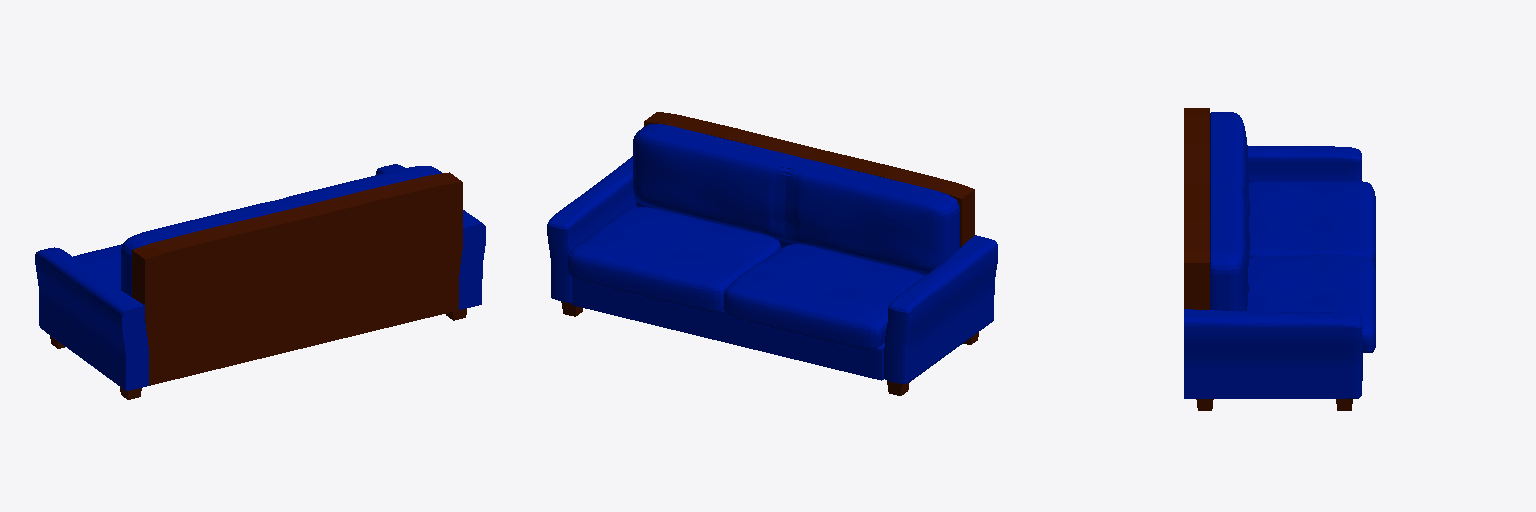
File: Sofa.obj
3 renders of one model, left to right at view 1: azimuth 30°, elevation 25°; view 2: azimuth 150°, elevation 25°; view 3: azimuth 270°, elevation 25°, orthographic.
Bounding box in the file's own units: 4.7 × 1.8 × 2.16.